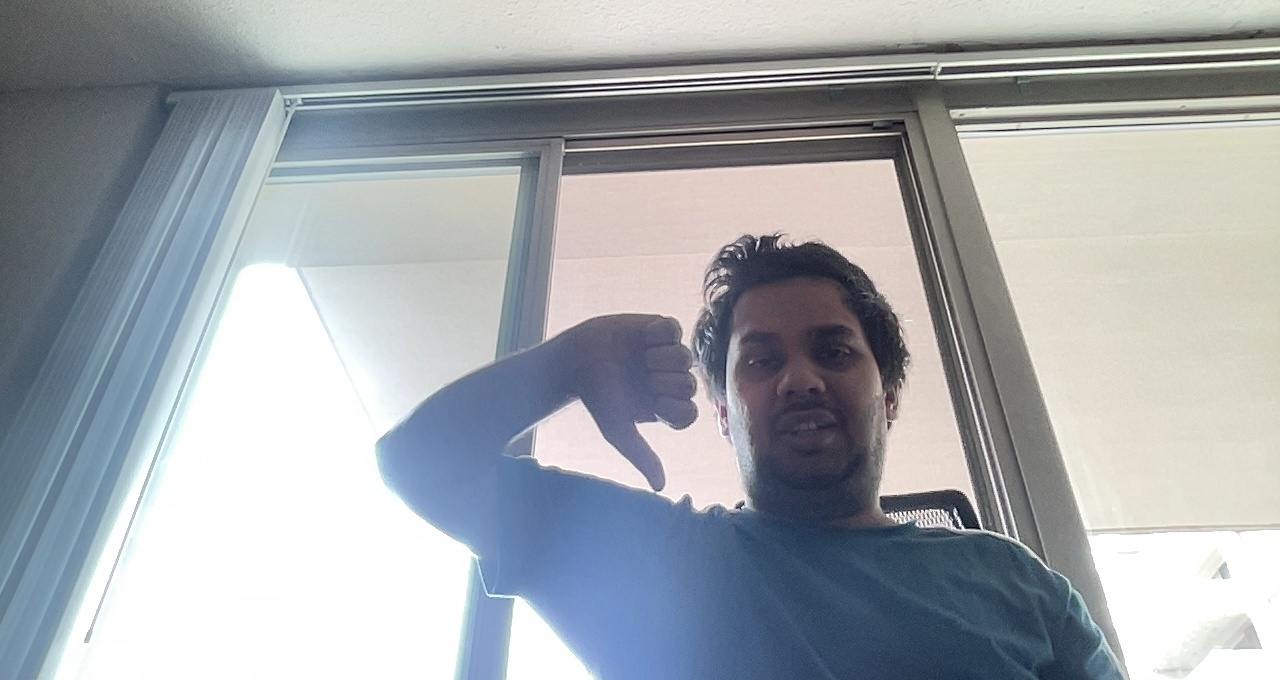thumbsdown: (565, 302, 702, 493)
